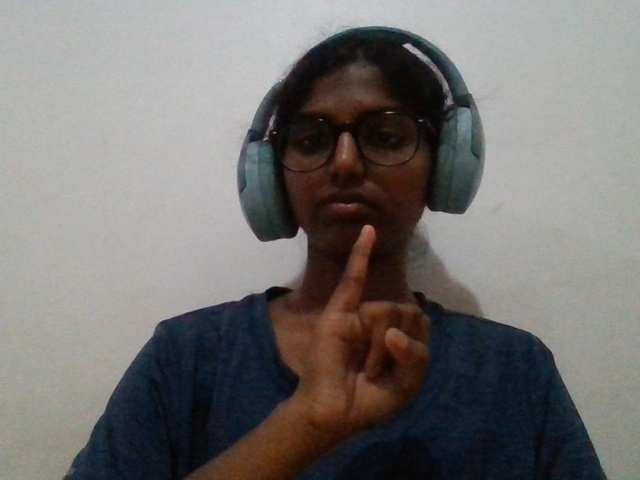I: (262, 213, 460, 476)
